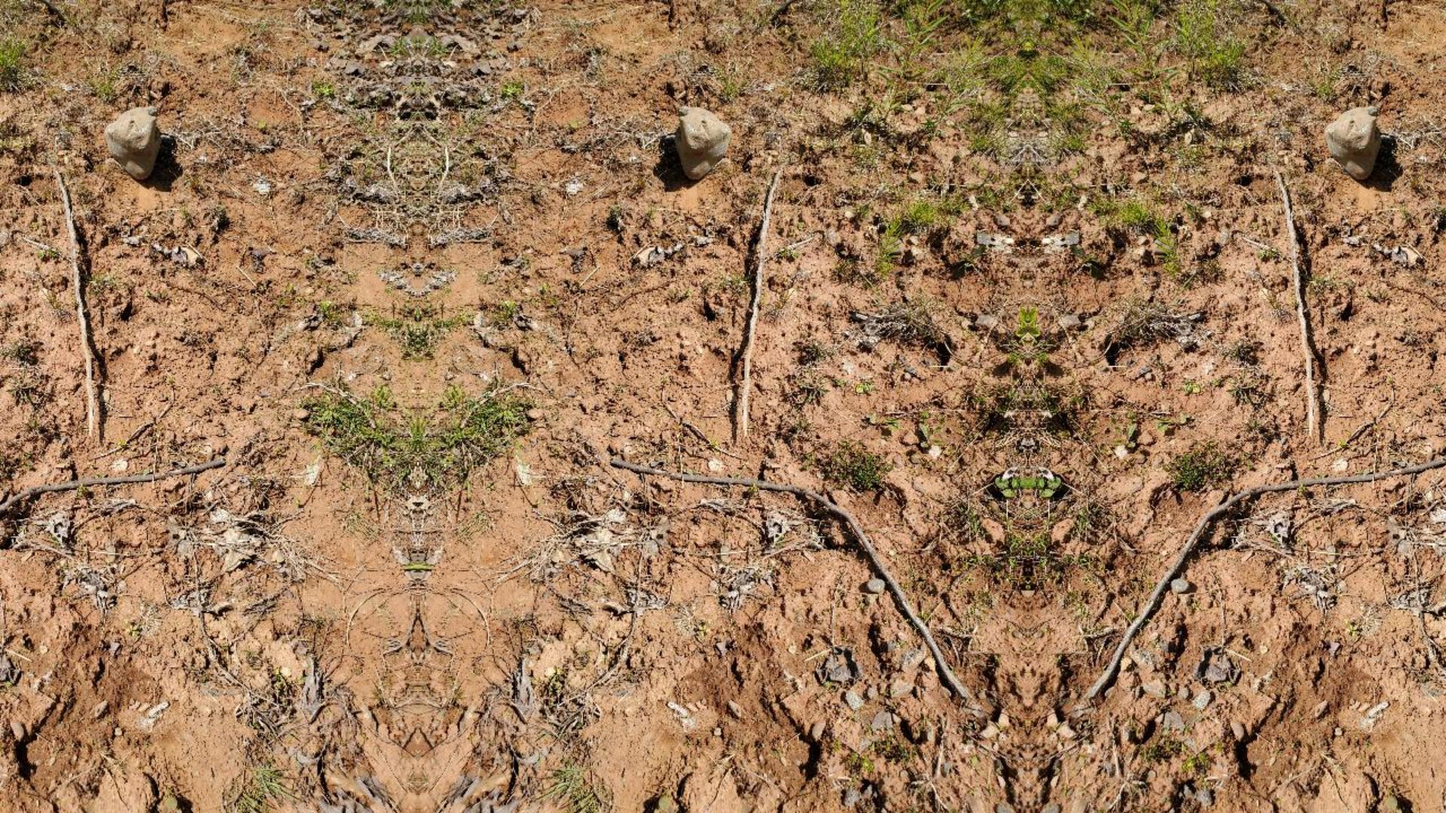rock: (674, 107, 731, 180), (104, 106, 159, 180), (1325, 107, 1380, 180)
